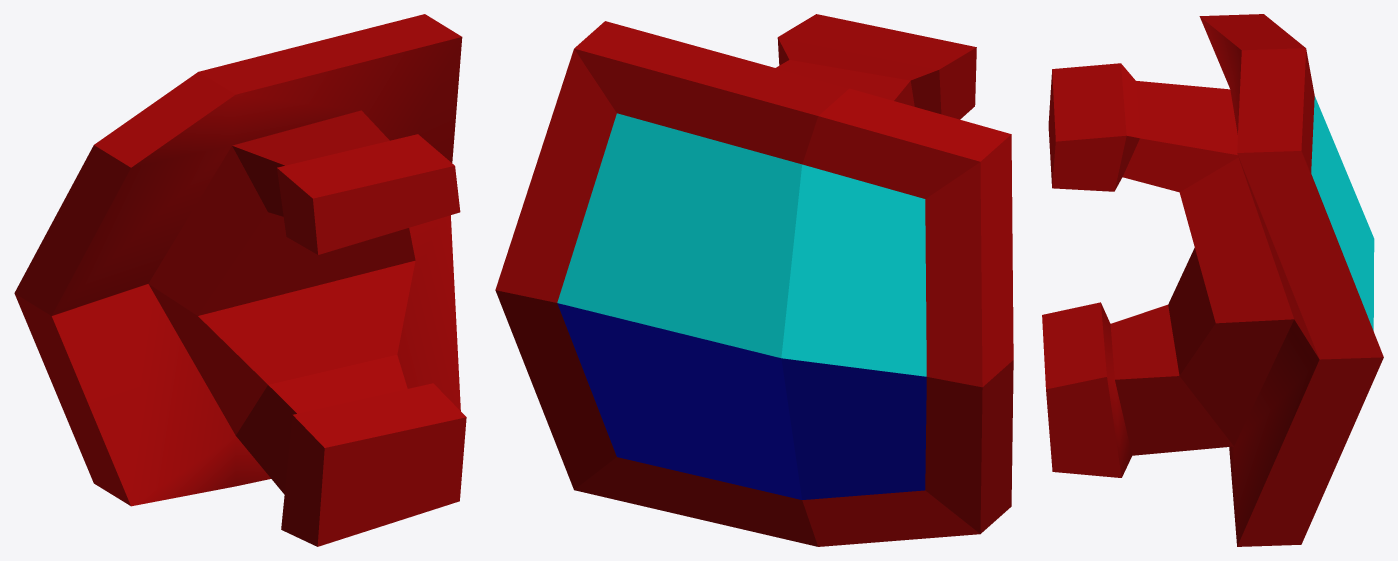
The model's file is Chr_ElbowAttachRight_Static_06.fbx.
The picture shows the model from 3 angles, left to right: view 1: azimuth 30°, elevation 25°; view 2: azimuth 150°, elevation 25°; view 3: azimuth 270°, elevation 25°; orthographic projection. The views are drawn at different scales.
Parts seen in each view (by area): view 1: Chr_ElbowAttachRight_06; view 2: Chr_ElbowAttachRight_06; view 3: Chr_ElbowAttachRight_06.
Part boxes in pixels (x1=…): Chr_ElbowAttachRight_06: x1=14, y1=14, x2=466, y2=546; Chr_ElbowAttachRight_06: x1=495, y1=14, x2=1013, y2=546; Chr_ElbowAttachRight_06: x1=1042, y1=14, x2=1383, y2=546.
Size of the model in its own units: 15.3 by 13.81 by 10.86.
